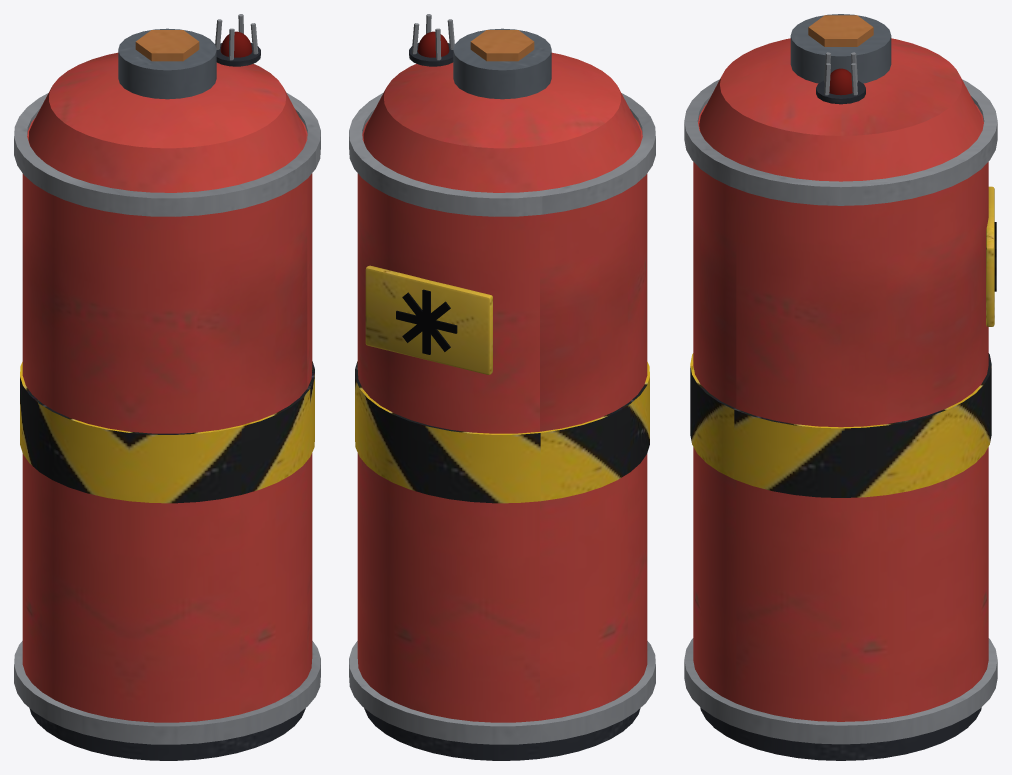
File: explosive_canister_small.glb
3 views of the same model, side by side, from view 1: azimuth 30°, elevation 25°; view 2: azimuth 150°, elevation 25°; view 3: azimuth 270°, elevation 25° (orthographic). The views are drawn at different scales.
Parts seen in each view (by area): view 1: Body; view 2: Body; view 3: Body.
Part boxes in pixels (left/top/right/bottom): Body: left=14, top=14, right=320, bottom=760; Body: left=349, top=14, right=655, bottom=760; Body: left=684, top=14, right=997, bottom=760.
Bounding box in the file's own units: 0.212 × 0.5051 × 0.212.
Materials: 10 (7 with a texture image).
